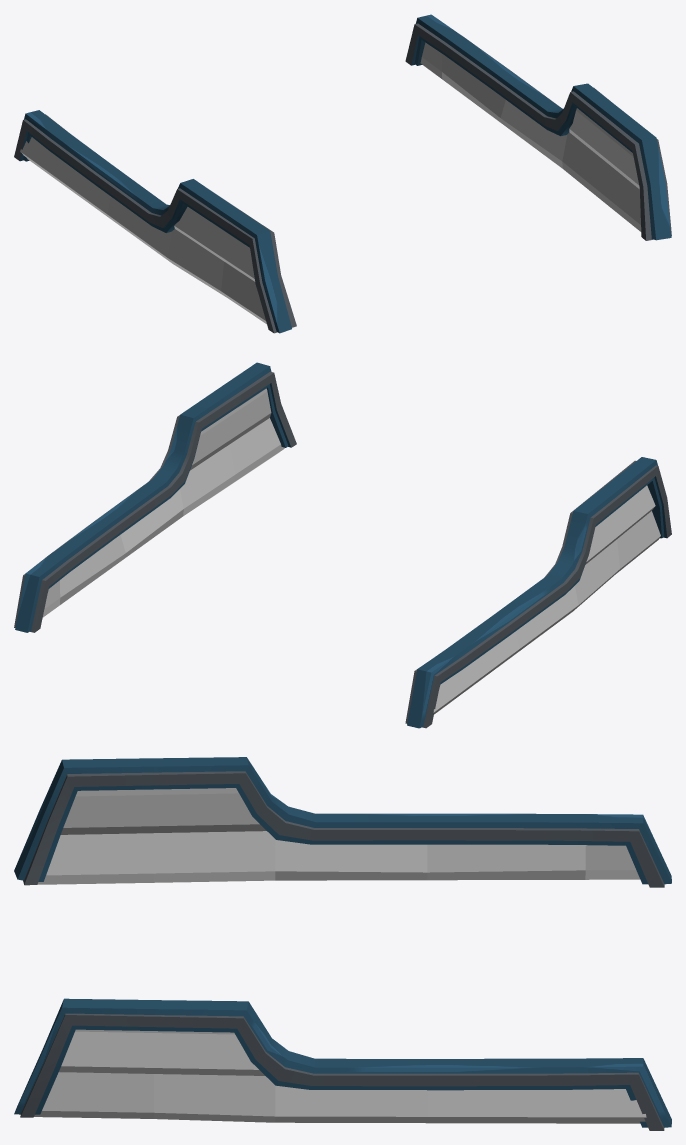
File: SM_Veh_Ship_S_Middle_01.fbx
3 renders of one model, top to bottom at view 1: azimuth 30°, elevation 25°; view 2: azimuth 150°, elevation 25°; view 3: azimuth 270°, elevation 25°, orthographic. The views are drawn at different scales.
Visible parts, largest first — view 1: SM_Veh_Ship_S_Middle_01; view 2: SM_Veh_Ship_S_Middle_01; view 3: SM_Veh_Ship_S_Middle_01.
Part boxes in pixels (left/top/right/bottom): SM_Veh_Ship_S_Middle_01: left=14, top=14, right=671, bottom=333; SM_Veh_Ship_S_Middle_01: left=14, top=362, right=671, bottom=728; SM_Veh_Ship_S_Middle_01: left=14, top=757, right=671, bottom=1130.
Bounding box in the file's own units: 527 × 113 × 564.
